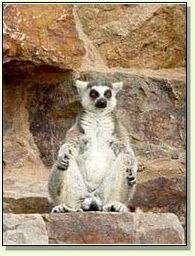cat: (47, 79, 138, 212)
